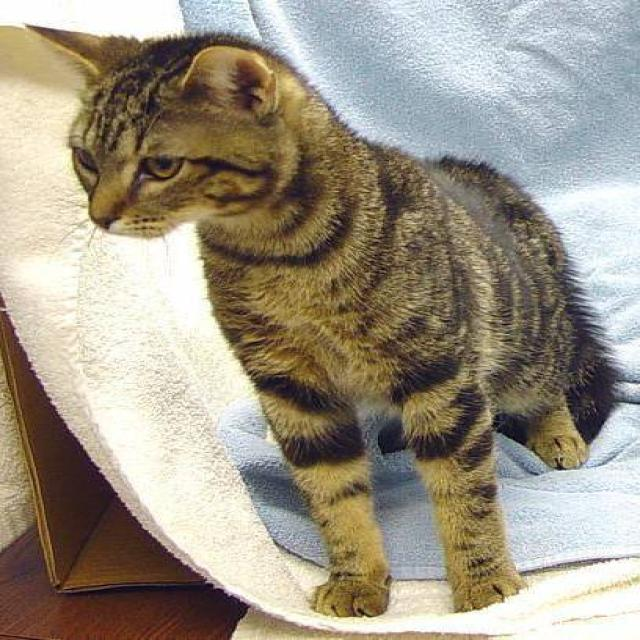cat: (23, 22, 622, 618)
